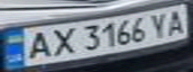1: (100, 19, 118, 48)
3: (78, 21, 103, 52)
6: (115, 16, 136, 46), (130, 14, 151, 43)
A: (21, 28, 57, 62), (163, 7, 190, 36)
X: (45, 25, 78, 57)
Y: (145, 10, 175, 39)
